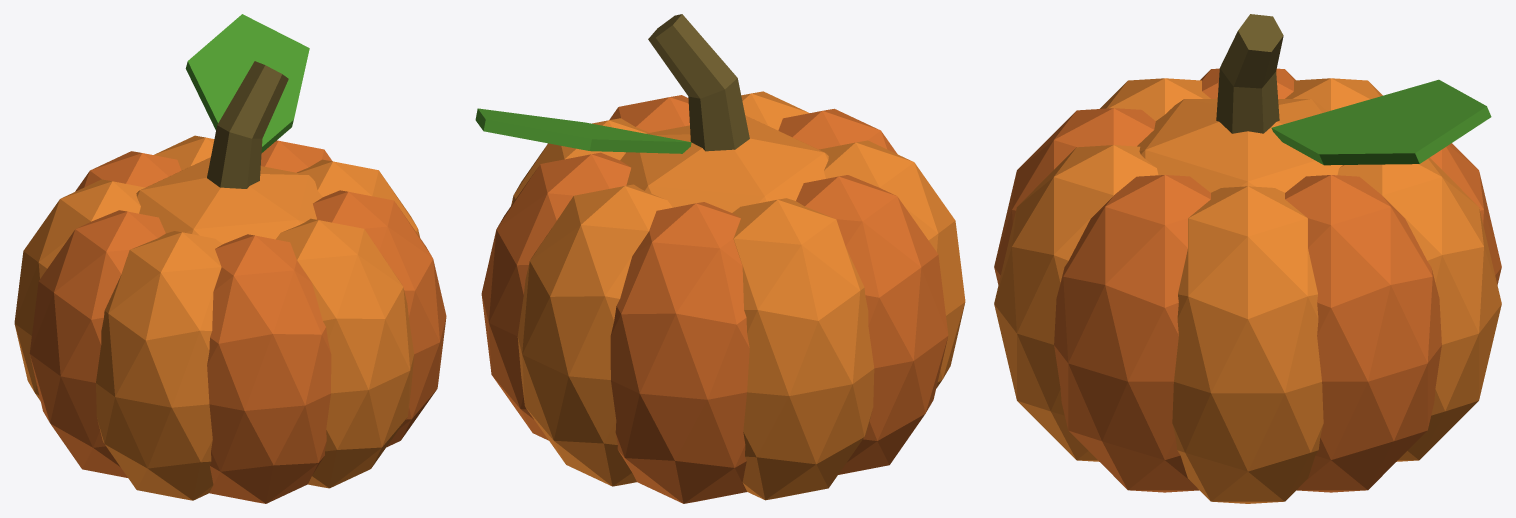
File: myw_pumpkin.glb
3 views of the same model, side by side, from view 1: azimuth 30°, elevation 25°; view 2: azimuth 150°, elevation 25°; view 3: azimuth 270°, elevation 25° (orthographic). The views are drawn at different scales.
Parts seen in each view (by area): view 1: Pumpkin; view 2: Pumpkin; view 3: Pumpkin.
Boxes of the visible parts, x1,y1,x2,y2 form: Pumpkin: (14, 14, 446, 503); Pumpkin: (475, 14, 965, 503); Pumpkin: (994, 14, 1501, 503).
Bounding box in the file's own units: 1.98 × 1.94 × 1.98.
